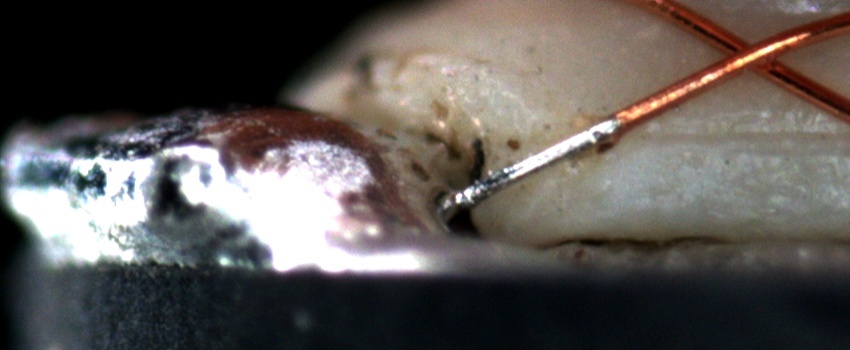CL: (702, 24, 806, 85)
DL: (633, 104, 850, 168)
TS: (457, 118, 622, 206)
